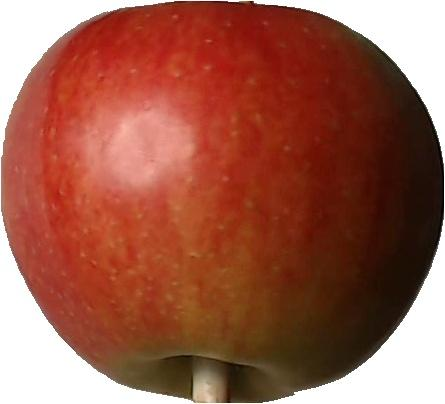Apple Ripe: (0, 2, 445, 404)
